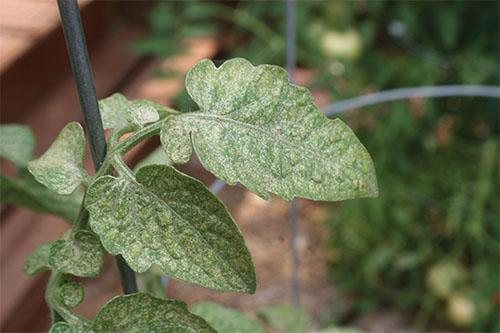Spider Mites: (157, 58, 380, 206), (85, 162, 259, 297)
